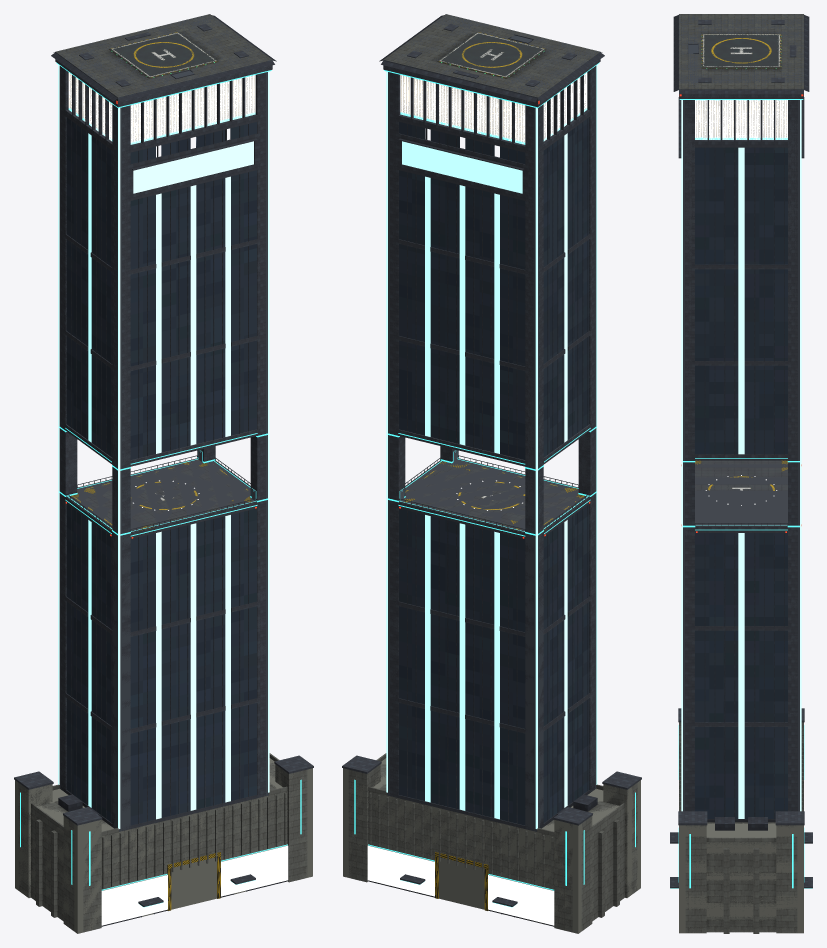
The model's file is skyhigh.glb.
The picture shows the model from 3 angles, left to right: view 1: azimuth 30°, elevation 25°; view 2: azimuth 150°, elevation 25°; view 3: azimuth 270°, elevation 25°; orthographic projection.
Parts seen in each view (by area): view 1: skyhigh_far, skyhigh, skyhigh_glow; view 2: skyhigh_far, skyhigh, skyhigh_glow; view 3: skyhigh_far, skyhigh, skyhigh_glow.
Boxes of the visible parts, bbox=[...] form: skyhigh_far: bbox=[15, 14, 312, 933]; skyhigh: bbox=[14, 14, 313, 932]; skyhigh_glow: bbox=[20, 51, 301, 907]; skyhigh_far: bbox=[343, 14, 640, 933]; skyhigh: bbox=[342, 14, 641, 932]; skyhigh_glow: bbox=[354, 51, 635, 907]; skyhigh_far: bbox=[679, 14, 803, 933]; skyhigh: bbox=[670, 14, 812, 933]; skyhigh_glow: bbox=[670, 36, 812, 888].
Size of the model in its own units: 82.4 by 274 by 43.
8 materials, 5 textured.
